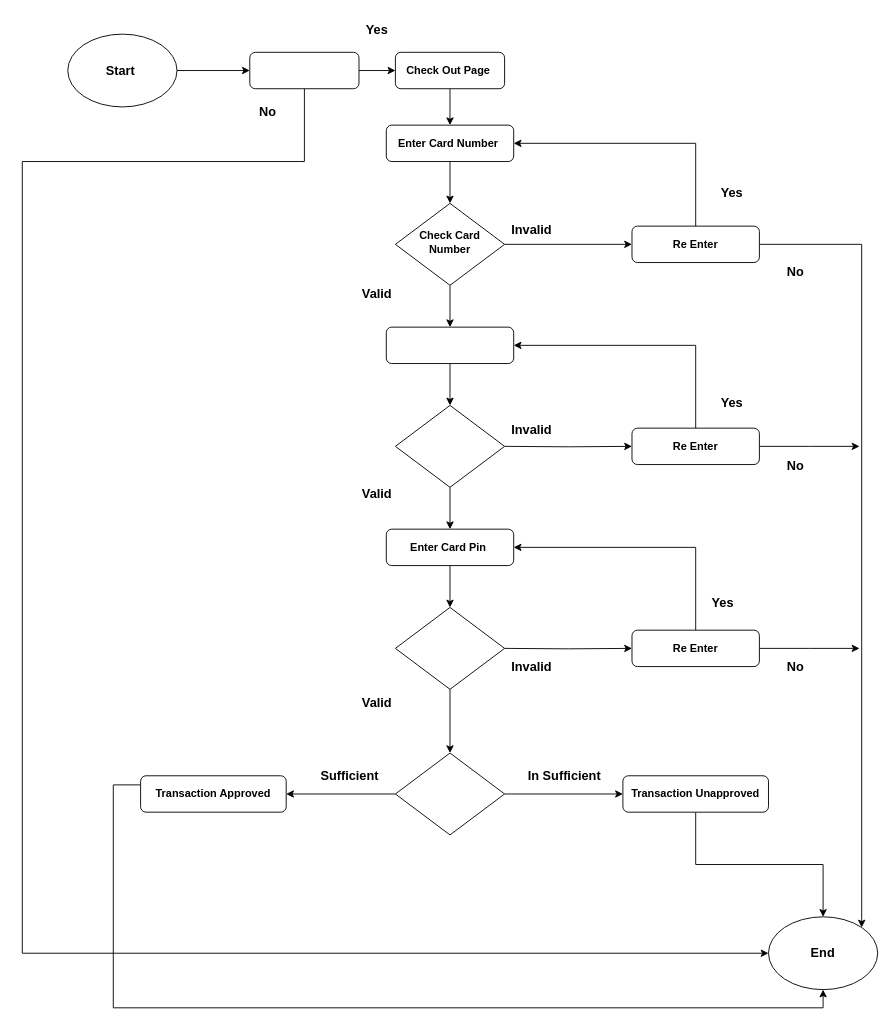
This 894x1031 diagram has some shape labels left out. The shapes that lost their labels are listed below. From the top down, each one's centre as x and y in pixels, then its label:
At point 304,70: "Order Placed".
At point 449,345: "Enter CVV/CVC Number".
At point 449,445: "Check CVV Number".
At point 449,648: "Check Pin".
At point 449,793: "Check Balance".
